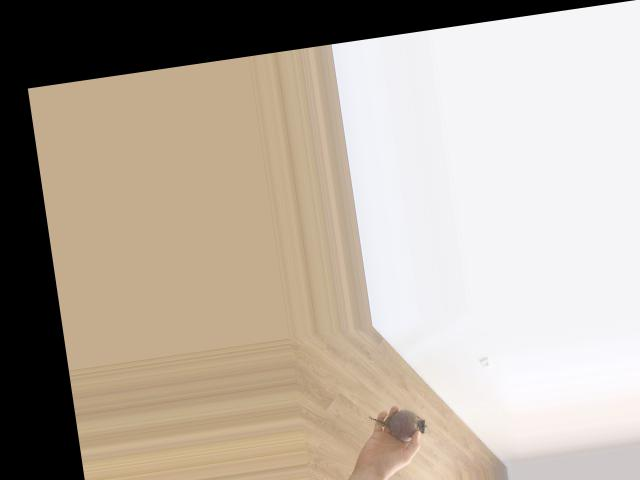beet: (368, 405, 427, 446)
